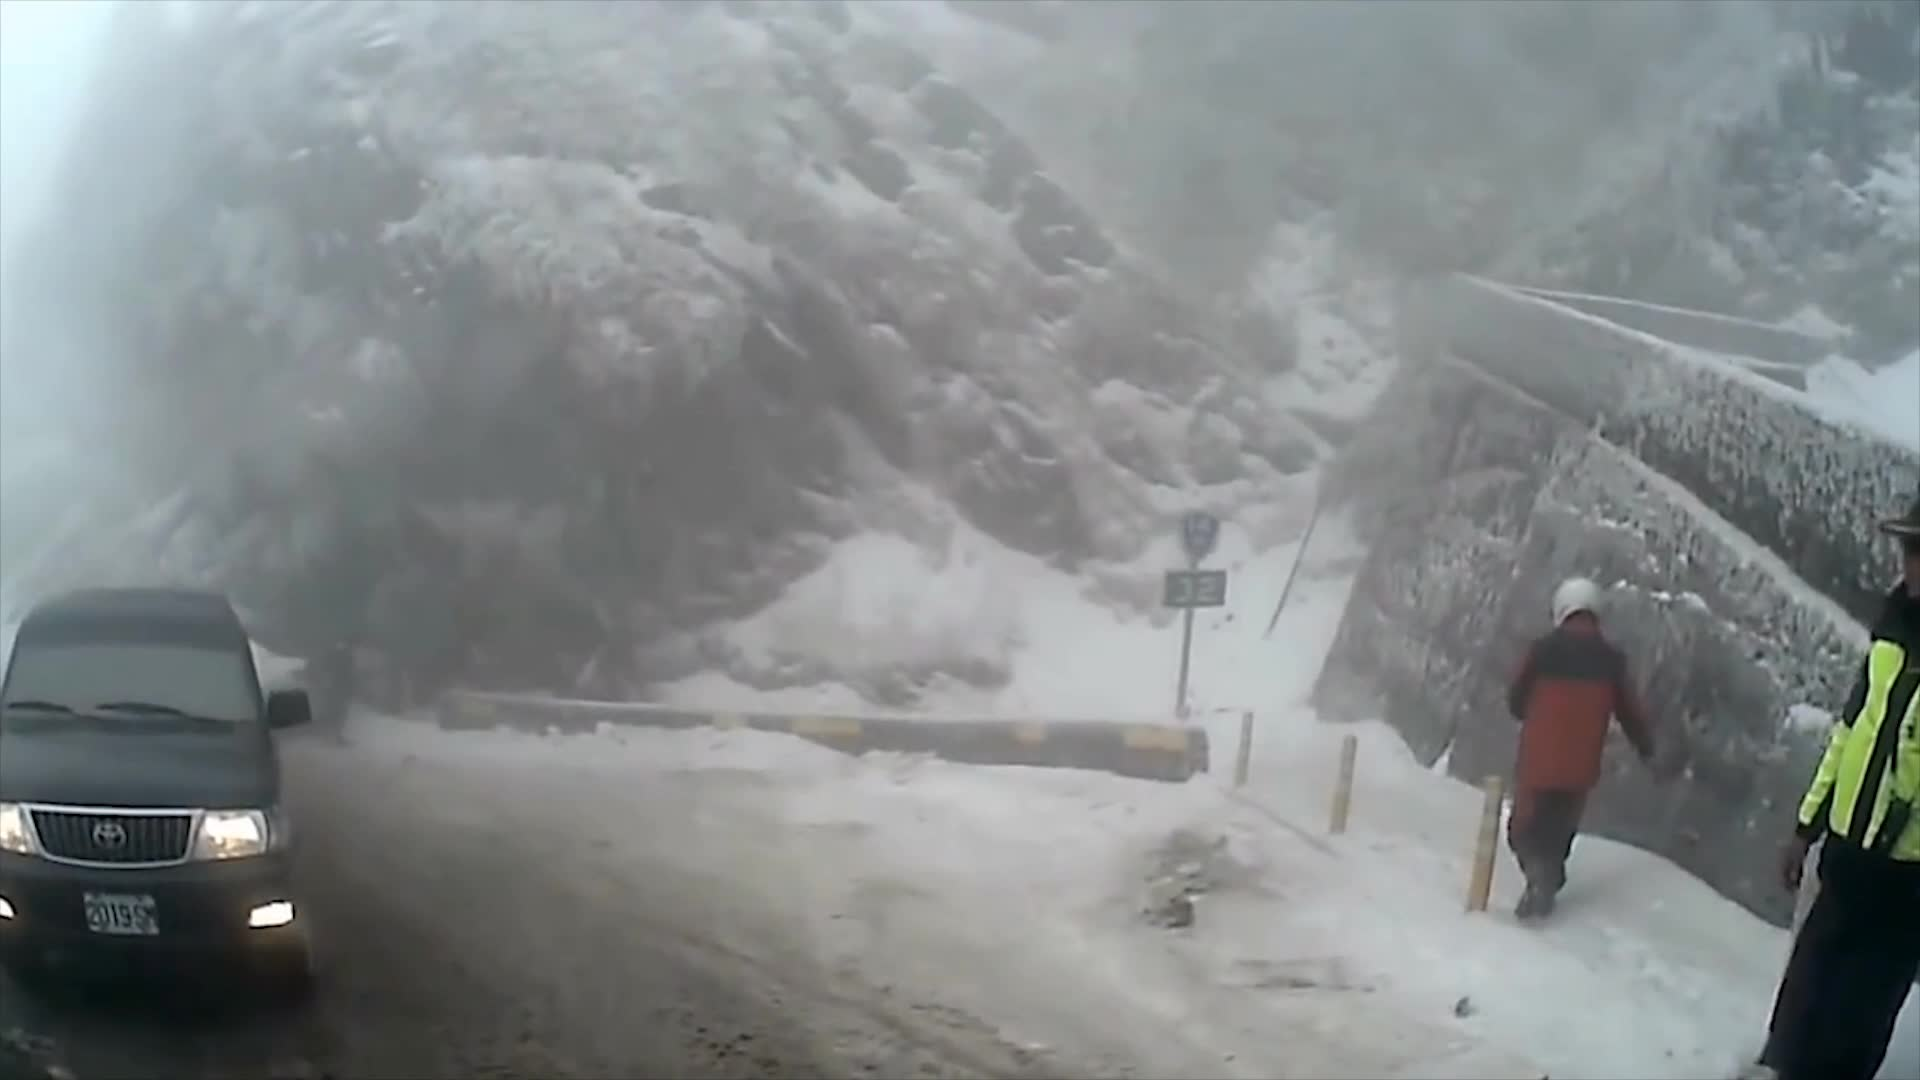pedestrian: (1740, 508, 1920, 1080), (1508, 568, 1647, 925)
vehicle: (0, 587, 322, 1001)
